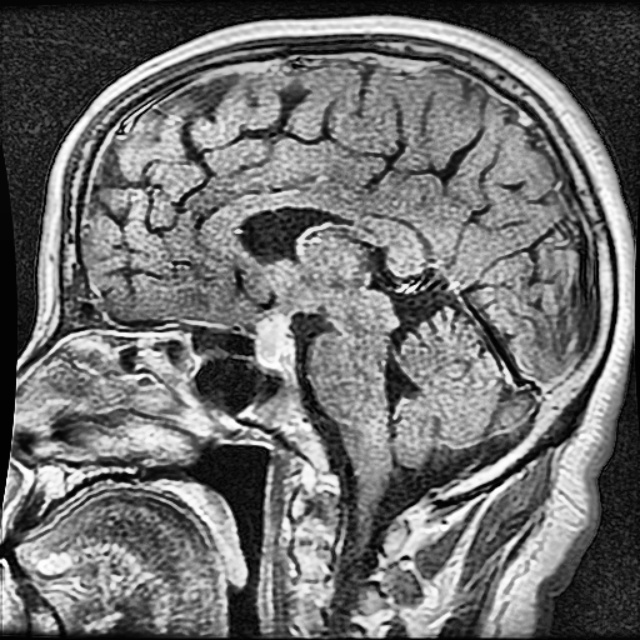Pituitary: (258, 315, 290, 370)
